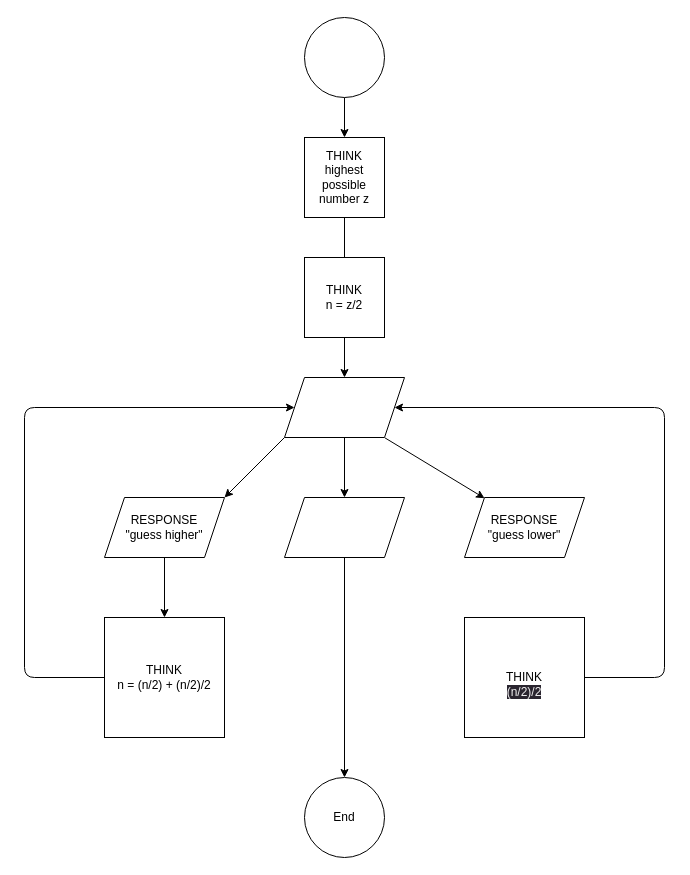
This 690x875 diagram has some shape labels left out. The shapes that lost their labels are listed below. From the top down, each one's centre as x and y in pixels, then its label:
pixel 344 57: Start
pixel 344 407: INPUT n
pixel 344 527: RESPONSE "correct answer"
